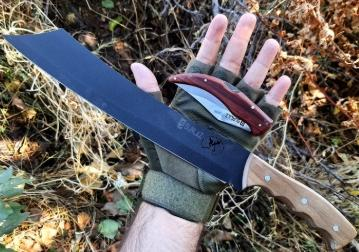MACHETTE: (2, 28, 359, 252)
